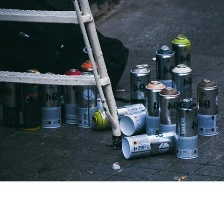aerosol_cans: (88, 98, 149, 135), (118, 129, 185, 162), (14, 65, 45, 135), (73, 66, 102, 132), (173, 95, 200, 161), (194, 76, 221, 138), (38, 70, 65, 132), (167, 30, 195, 89), (142, 78, 166, 142), (61, 63, 85, 127), (170, 61, 197, 117), (126, 59, 152, 116), (153, 42, 177, 98), (156, 85, 182, 136)
